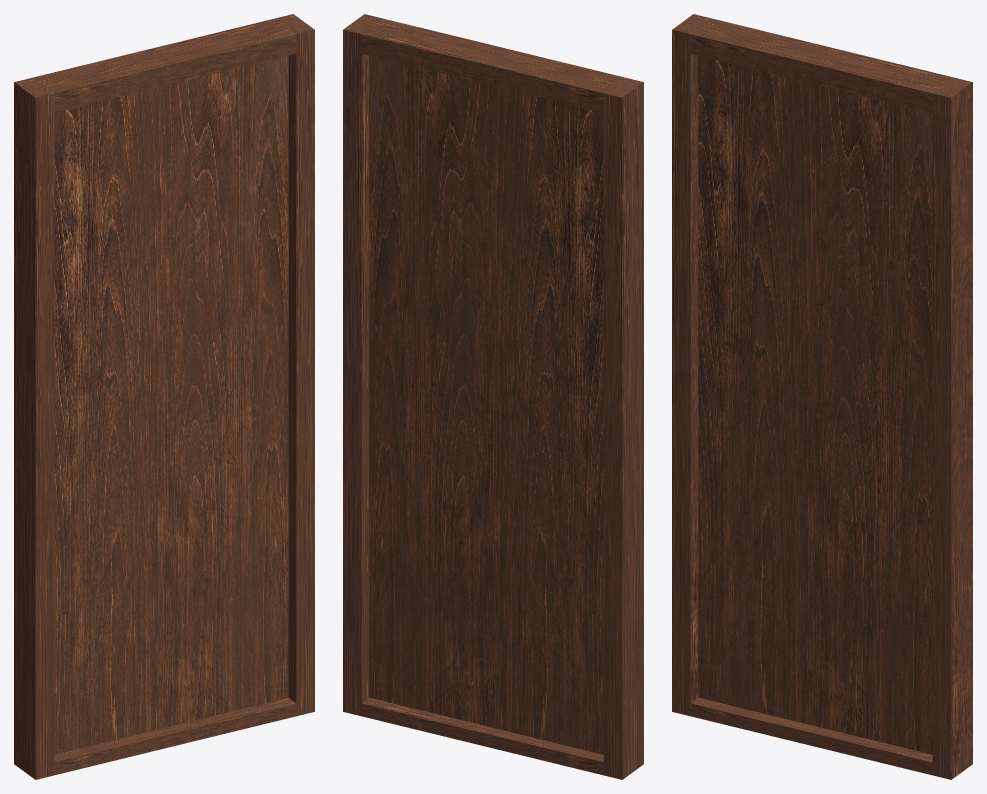
3 renders of one model, left to right at view 1: azimuth 30°, elevation 25°; view 2: azimuth 150°, elevation 25°; view 3: azimuth 330°, elevation 25°, orthographic.
Visible parts, largest first — view 1: door_panel, frame; view 2: door_panel, frame; view 3: door_panel, frame.
Part boxes in pixels (<box>): door_panel: <box>54,55,288,754</box>; frame: <box>14,14,314,779</box>; door_panel: <box>369,55,603,754</box>; frame: <box>343,14,643,779</box>; door_panel: <box>698,55,932,754</box>; frame: <box>672,14,972,779</box>.
Bounding box in the file's own units: 0.9 × 2.1 × 0.12.
2 materials, 2 textured.
